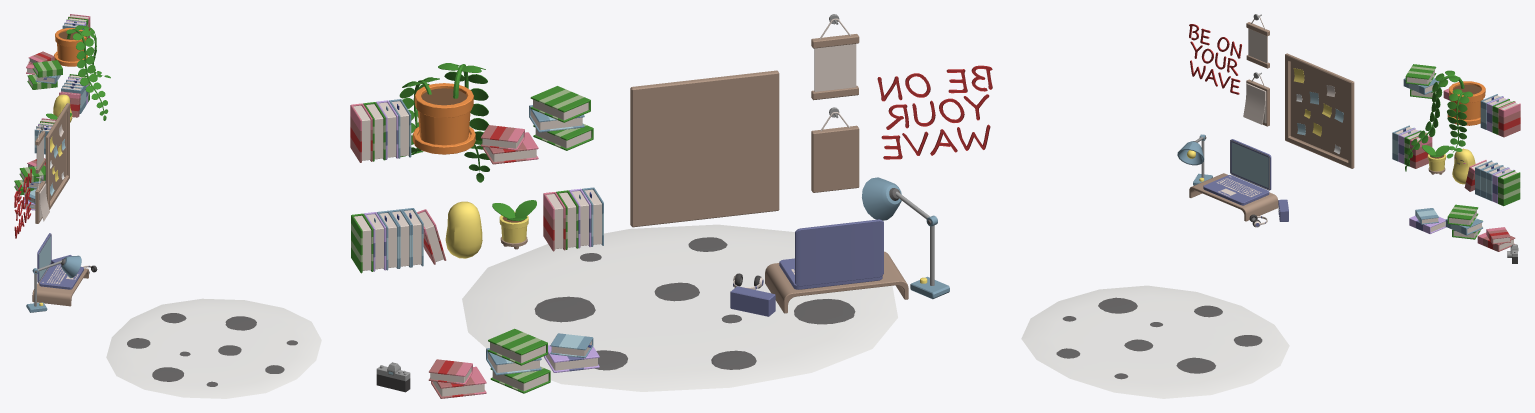
File: Be on your wave.fbx
The picture shows the model from 3 angles, left to right: view 1: azimuth 30°, elevation 25°; view 2: azimuth 150°, elevation 25°; view 3: azimuth 270°, elevation 25°; orthographic projection. The views are drawn at different scales.
Parts seen in each view (by area): view 1: mat carpet, Gamla lumkavaan, stickypad board, laptopp, books.002, laptop stand, books.001, laptop lamp, Be on your wave, books.005, calender, calender.001 (+4 smaller); view 2: mat carpet, stickypad board, Gamla lumkavaan, laptopp, books.001, books, books.003, calender, books.002, books.005, Be on your wave, calender.001 (+9 smaller); view 3: mat carpet, stickypad board, Gamla lumkavaan, laptopp, books.001, books, Be on your wave, books.003, laptop stand, calender, books.005, books.002 (+6 smaller).
Boxes of the visible parts, x1=… form: mat carpet: x1=106, y1=298, x2=321, y2=398; Gamla lumkavaan: x1=54, y1=25, x2=110, y2=120; stickypad board: x1=45, y1=103, x2=69, y2=209; laptopp: x1=37, y1=233, x2=83, y2=289; books.002: x1=27, y1=60, x2=62, y2=89; laptop stand: x1=32, y1=268, x2=88, y2=306; books.001: x1=59, y1=74, x2=89, y2=117; laptop lamp: x1=26, y1=255, x2=81, y2=312; Be on your wave: x1=14, y1=168, x2=31, y2=238; books.005: x1=14, y1=165, x2=45, y2=195; calender: x1=35, y1=175, x2=49, y2=223; calender.001: x1=35, y1=124, x2=45, y2=173; mat carpet: x1=462, y1=224, x2=897, y2=391; stickypad board: x1=630, y1=70, x2=779, y2=227; Gamla lumkavaan: x1=399, y1=63, x2=489, y2=182; laptopp: x1=779, y1=219, x2=883, y2=289; books.001: x1=351, y1=208, x2=446, y2=273; books: x1=350, y1=99, x2=411, y2=162; books.003: x1=543, y1=187, x2=603, y2=251; calender: x1=811, y1=107, x2=859, y2=192; books.002: x1=529, y1=86, x2=593, y2=150; books.005: x1=486, y1=328, x2=550, y2=393; Be on your wave: x1=877, y1=65, x2=992, y2=159; calender.001: x1=811, y1=14, x2=859, y2=100; mat carpet: x1=1021, y1=285, x2=1289, y2=398; stickypad board: x1=1285, y1=53, x2=1354, y2=168; Gamla lumkavaan: x1=1405, y1=70, x2=1485, y2=171; laptopp: x1=1203, y1=139, x2=1271, y2=205; books.001: x1=1464, y1=160, x2=1520, y2=206; books: x1=1480, y1=94, x2=1520, y2=137; Be on your wave: x1=1189, y1=24, x2=1241, y2=94; books.003: x1=1392, y1=125, x2=1432, y2=168; laptop stand: x1=1189, y1=173, x2=1278, y2=221; calender: x1=1243, y1=72, x2=1269, y2=126; books.005: x1=1445, y1=204, x2=1483, y2=239; books.002: x1=1403, y1=64, x2=1441, y2=98.
Bounding box in the file's own units: 399 × 304 × 526.
